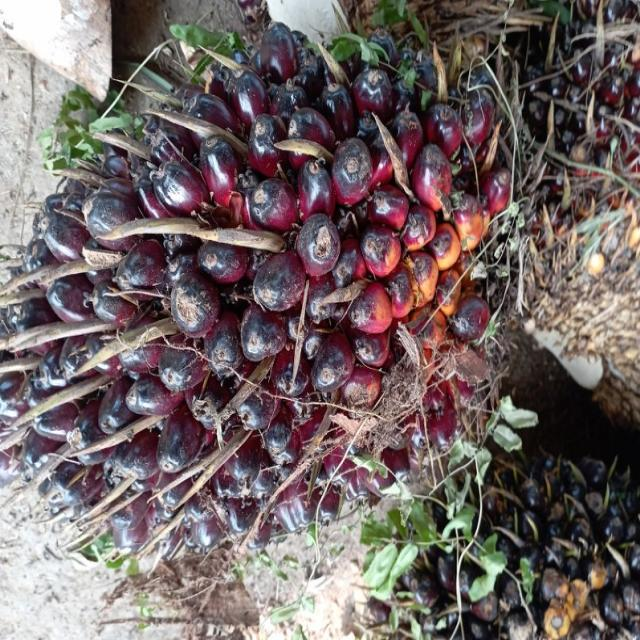fraksi 1: (0, 22, 528, 563)
